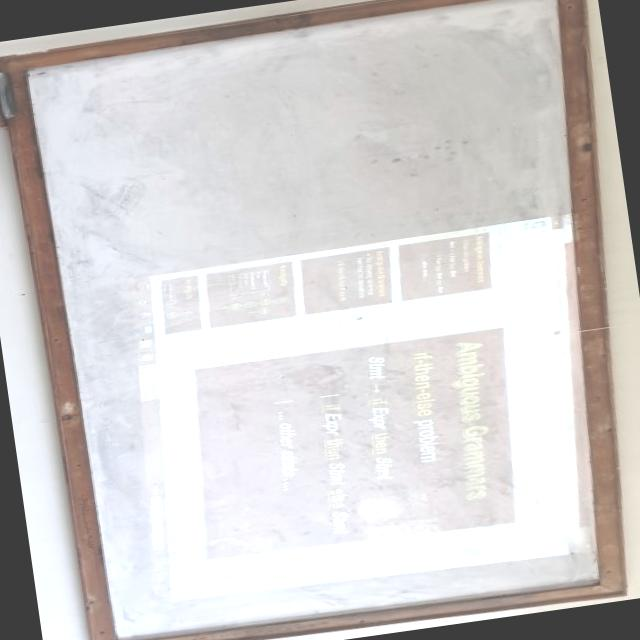Slide: (109, 209, 608, 609)
White-board: (3, 0, 616, 640)
